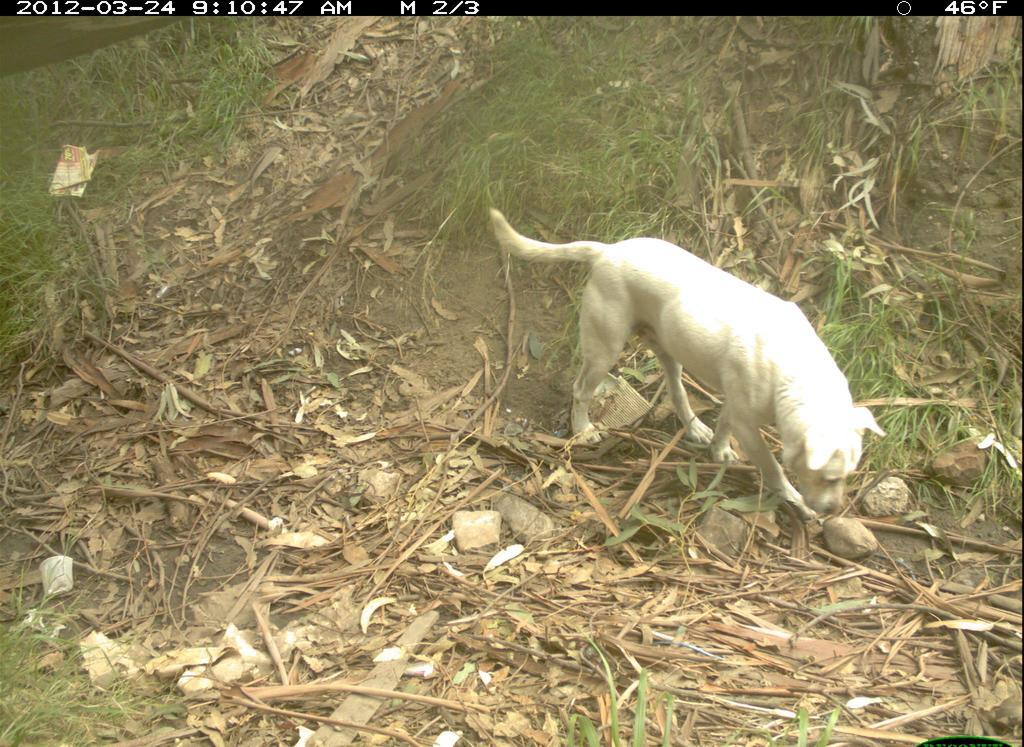dog: (488, 203, 885, 530)
